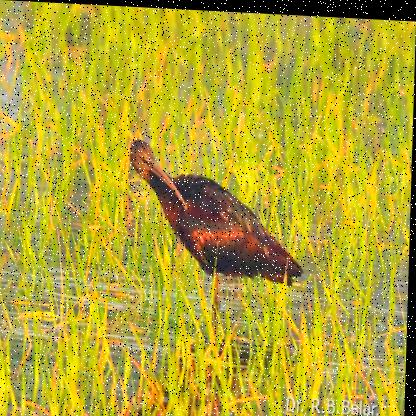Burung: (127, 136, 307, 332)
